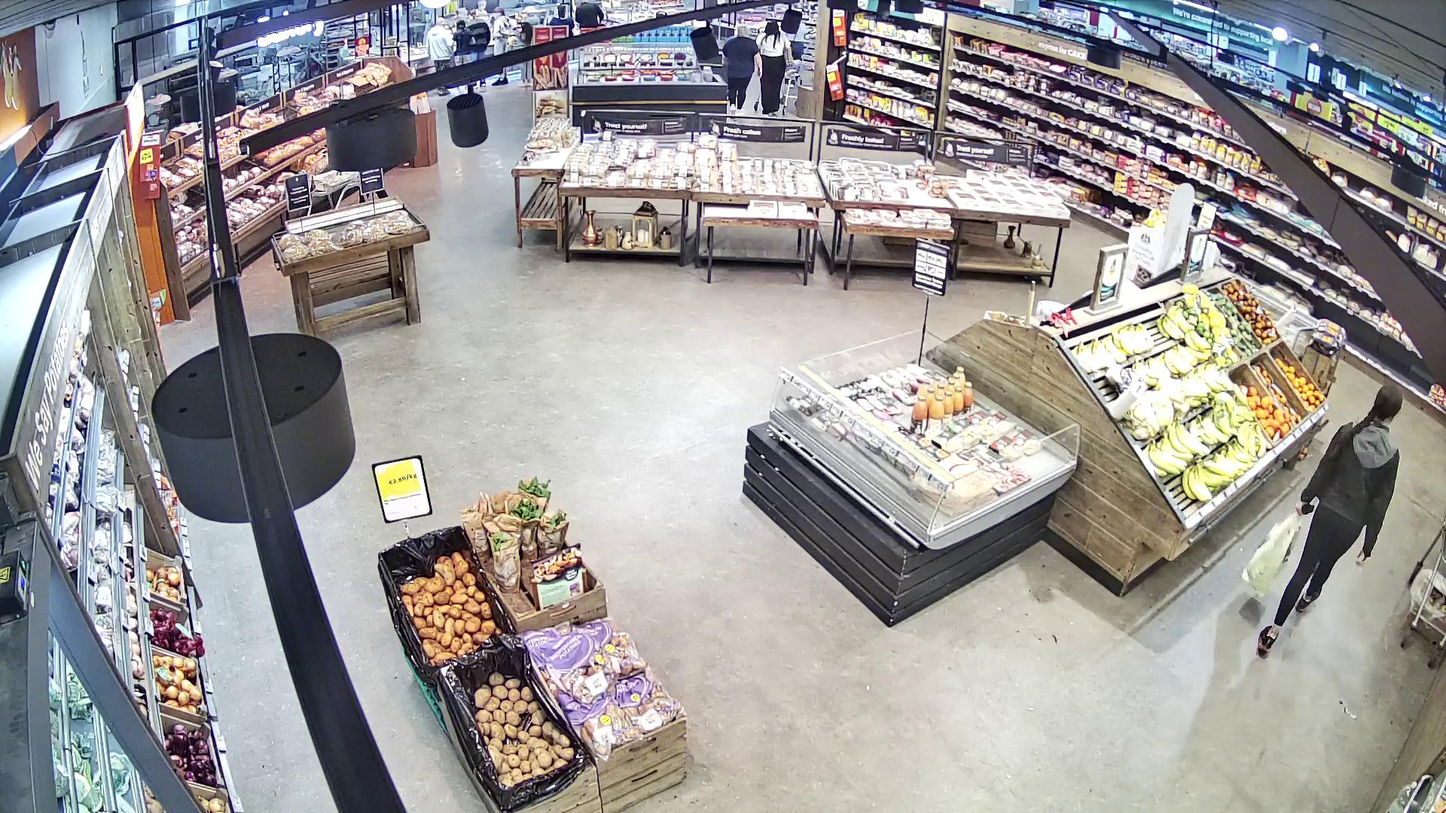filled-shopping-bags: (1242, 514, 1301, 599)
person: (1254, 382, 1402, 658)
person-with-filled-shopping-bag-s-: (1241, 380, 1403, 658)
